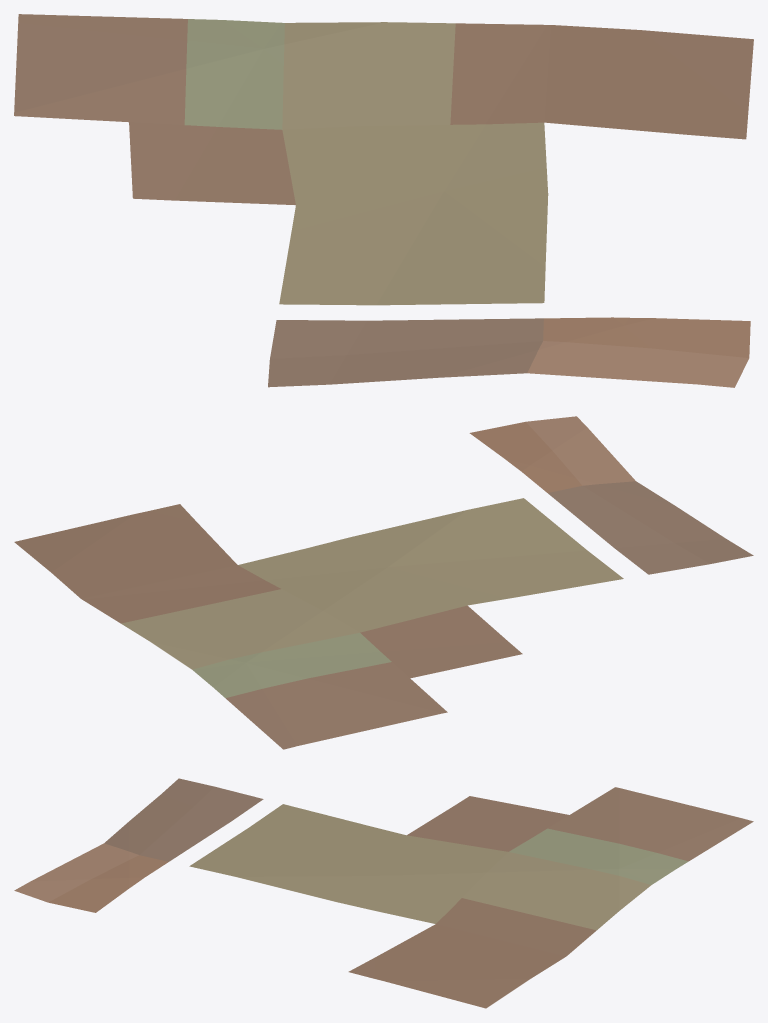
File: farm_25_17_soil.glb
The picture shows the model from 3 angles, top to bottom: view 1: azimuth 30°, elevation 25°; view 2: azimuth 150°, elevation 25°; view 3: azimuth 270°, elevation 25°; orthographic projection. The views are drawn at different scales.
Parts seen in each view (by area): view 1: geometry_0; view 2: geometry_0; view 3: geometry_0.
Boxes of the visible parts, left/top/right/bottom form: geometry_0: left=14, top=14, right=753, bottom=387; geometry_0: left=14, top=416, right=753, bottom=749; geometry_0: left=14, top=778, right=753, bottom=1008.
Size of the model in its own units: 183 by 5.68 by 242.
